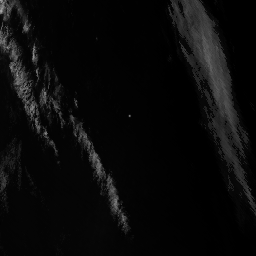Target: (127, 113, 132, 118)
